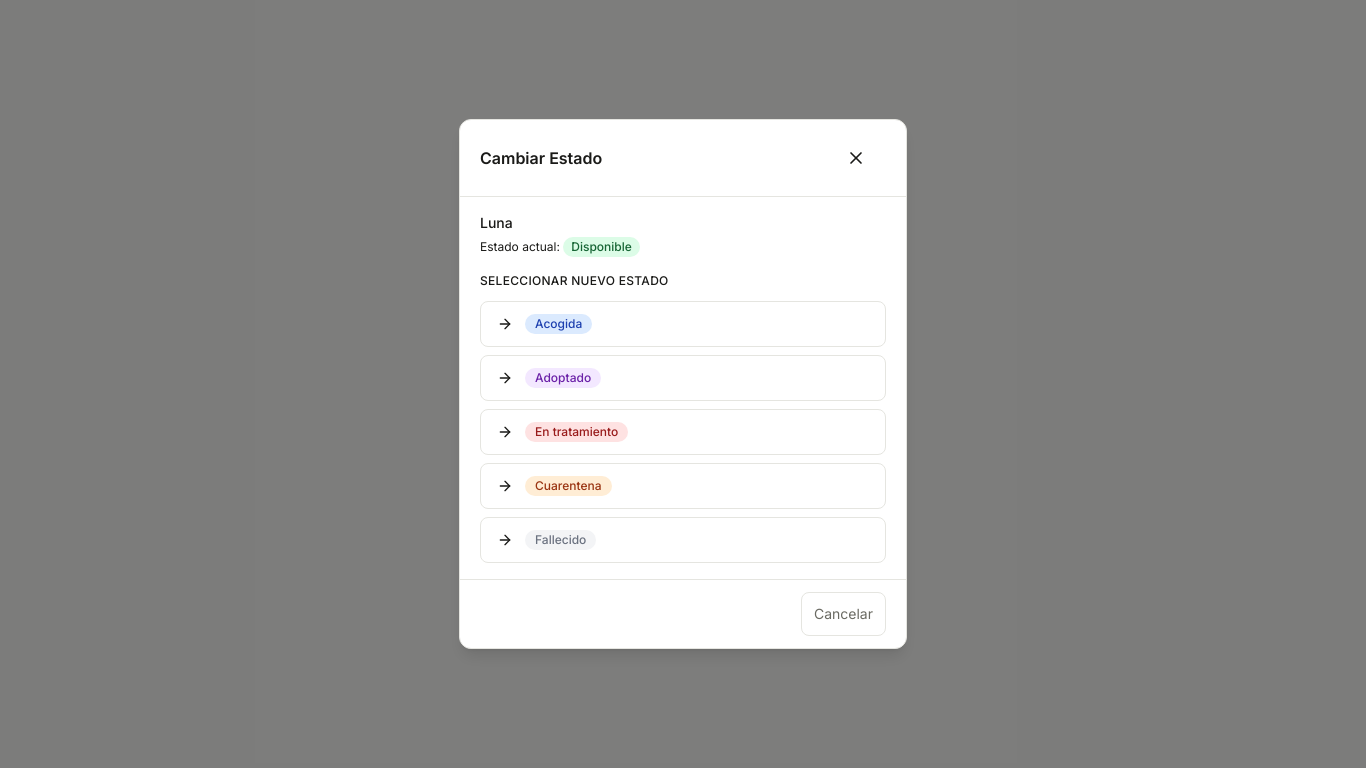
Test: StatusWorkflowModal › shows terminal warning when selecting deceased
This screenshot has width=1366, height=768.
What coordinates should you click on to do the following:
click the button "Fallecido"
I would click on:
 (561, 540)
Its box is [480,517,886,563].
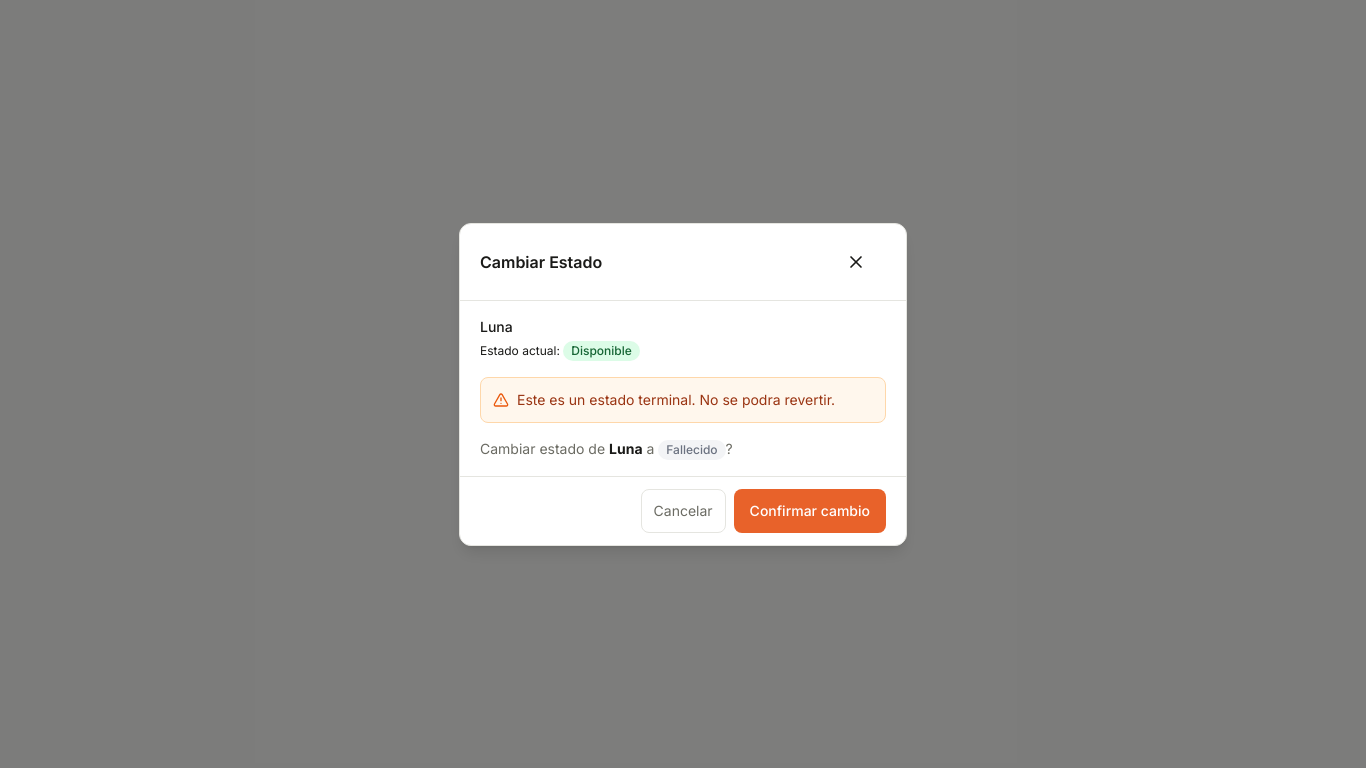
Now the text "Este es un estado terminal. No se podra revertir." is shown, box [517,390,835,410]
